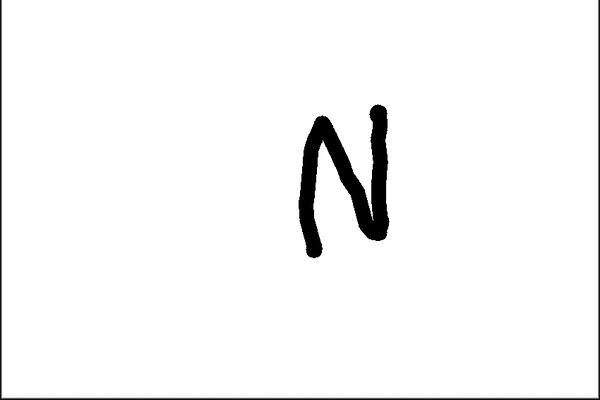N: (291, 97, 398, 262)
